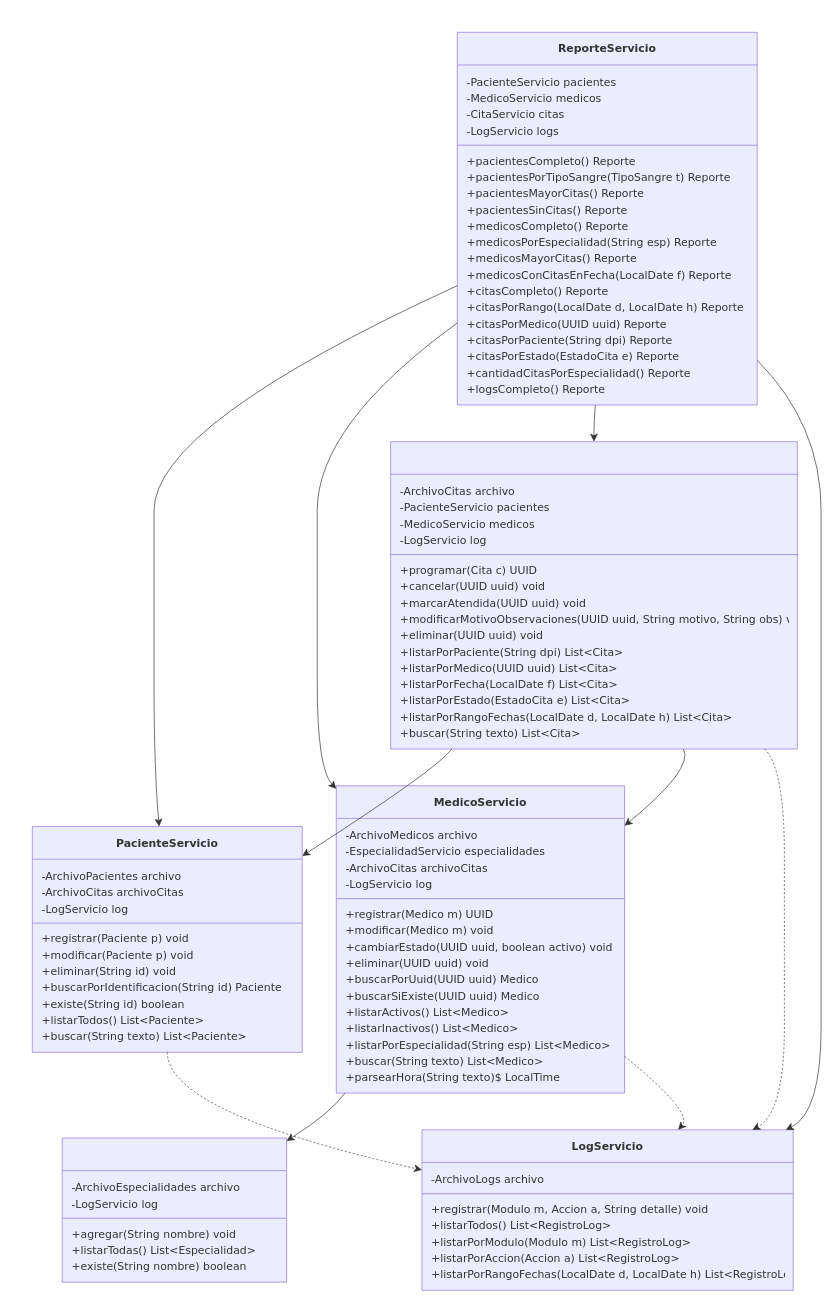
Image size: 833x1302. Some labels were removed from this diagram. Each missing label, with the box of its shape:
CitaServicio: (390, 441, 797, 749)
EspecialidadServicio: (62, 1137, 287, 1282)
